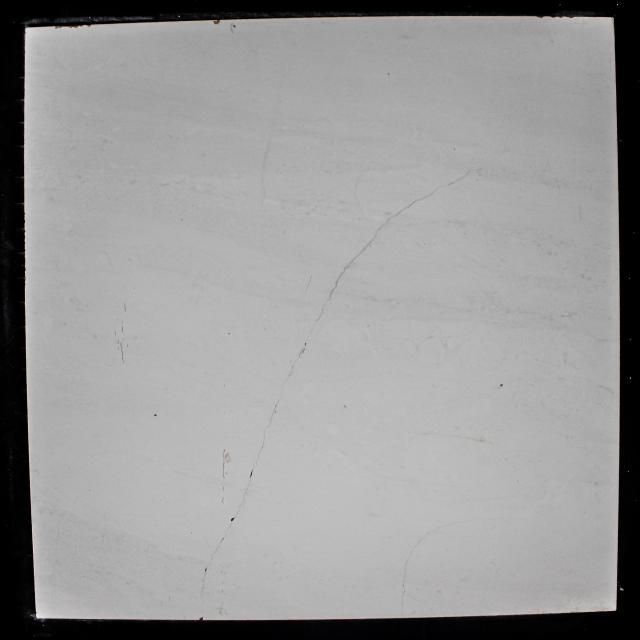edge-chipping: (67, 25, 79, 29), (213, 20, 220, 25), (55, 26, 66, 29), (85, 24, 92, 28), (198, 617, 204, 620)
hole: (153, 413, 158, 418), (499, 383, 504, 388), (231, 517, 235, 522), (232, 25, 236, 28), (228, 332, 230, 334)
line: (418, 528, 441, 543), (347, 250, 364, 268), (448, 171, 469, 185), (401, 564, 407, 610), (208, 543, 220, 566), (199, 572, 206, 610), (442, 520, 476, 527), (386, 210, 403, 223), (406, 544, 418, 562), (420, 190, 437, 200), (362, 238, 376, 250), (282, 372, 292, 388), (404, 200, 419, 209), (329, 284, 337, 300), (224, 522, 232, 538), (336, 268, 345, 282), (315, 308, 323, 322), (256, 448, 262, 466), (276, 388, 282, 405), (238, 494, 245, 508), (244, 478, 250, 494), (306, 276, 312, 292), (376, 225, 384, 236), (270, 408, 275, 423), (120, 342, 124, 360), (309, 324, 315, 335), (223, 448, 225, 478), (298, 348, 304, 358), (291, 362, 296, 371), (235, 509, 240, 517), (264, 425, 270, 431), (262, 432, 264, 448)
